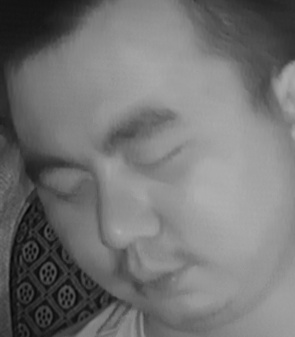blink: (130, 140, 189, 181), (44, 172, 89, 208)
mouth: (115, 257, 195, 304)
